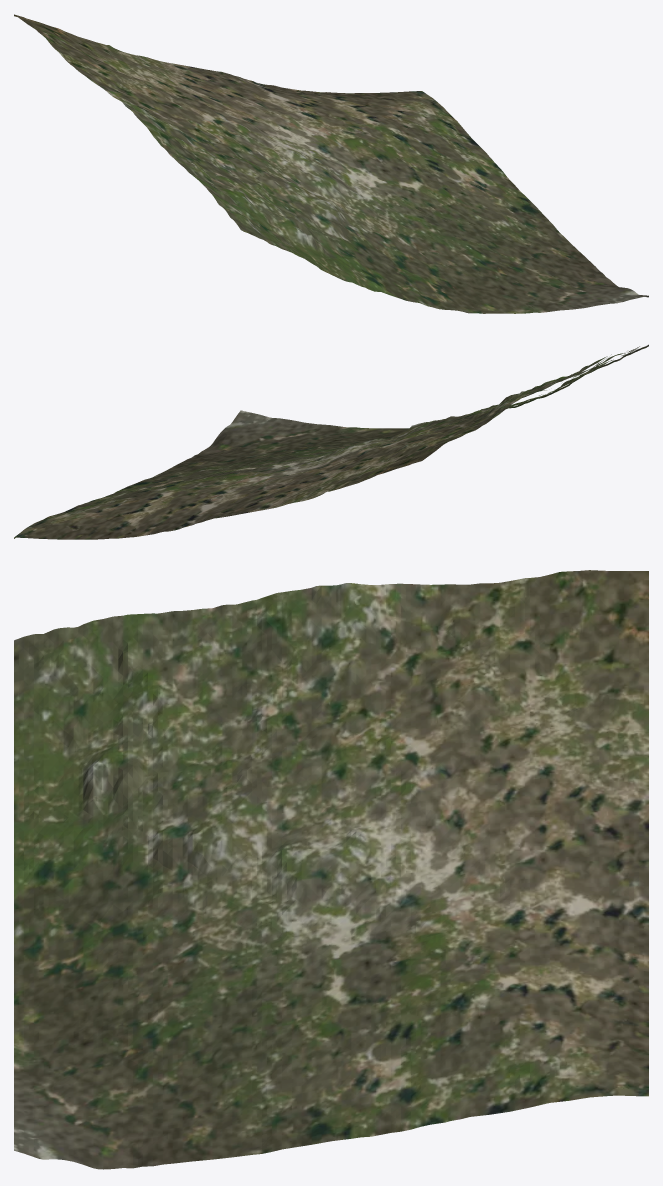
3 views of the same model, one above another, from view 1: azimuth 30°, elevation 25°; view 2: azimuth 150°, elevation 25°; view 3: azimuth 270°, elevation 25° (orthographic). The views are drawn at different scales.
Bounding box in the file's own units: 250 × 135 × 241.
Materials: 1 (1 with a texture image).
